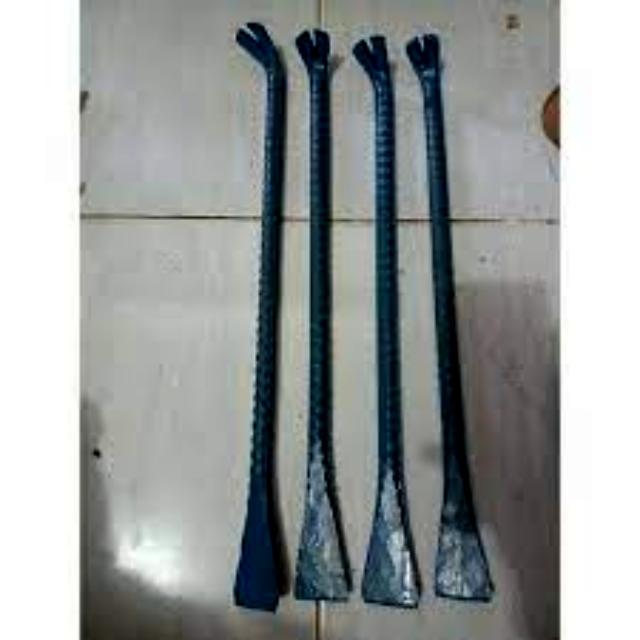crow bar: (394, 39, 506, 618), (352, 2, 426, 624), (292, 30, 356, 612), (231, 17, 293, 613)
